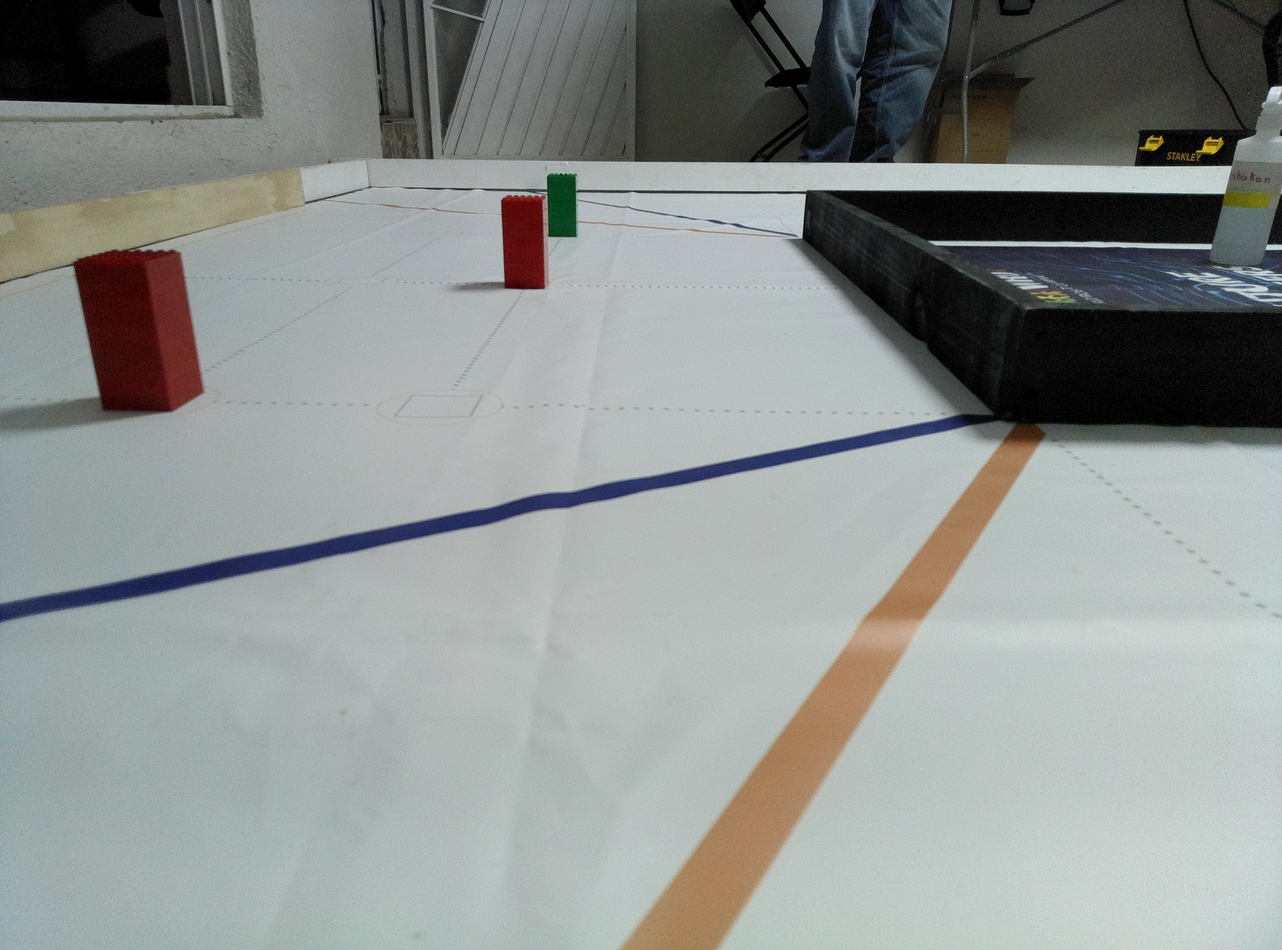greenbox: (546, 172, 580, 239)
redbox: (70, 247, 209, 415), (500, 194, 552, 289)
